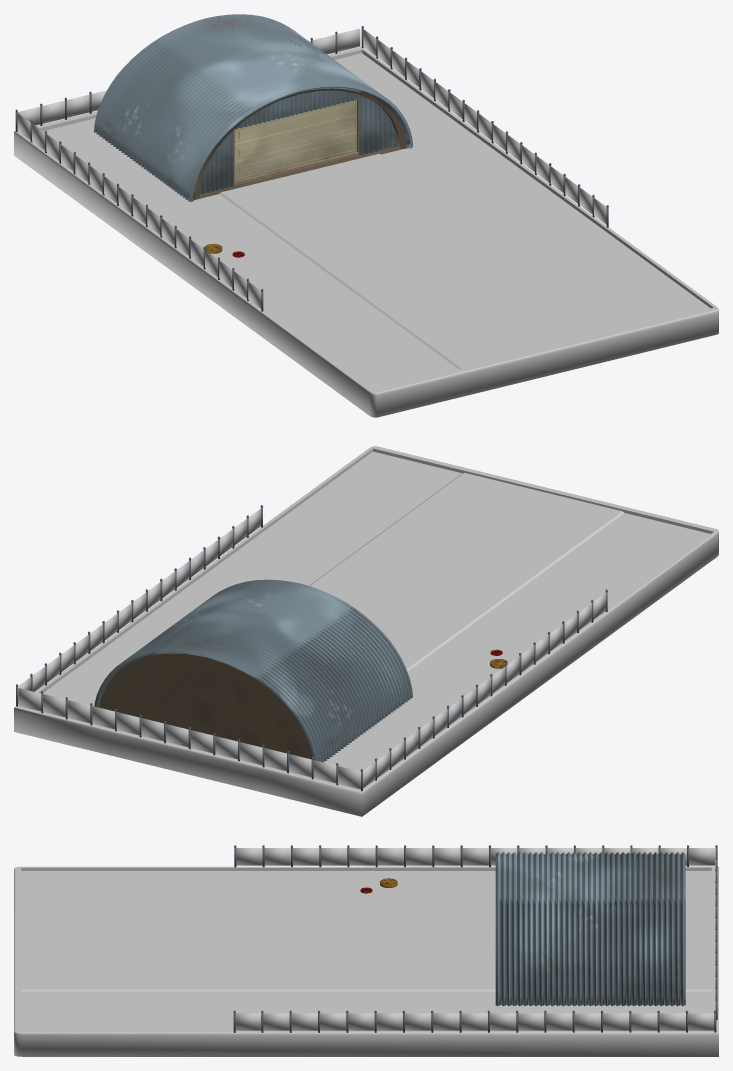
The model's file is runway1.fbx.
3 views of the same model, one above another, from view 1: azimuth 30°, elevation 25°; view 2: azimuth 150°, elevation 25°; view 3: azimuth 270°, elevation 25° (orthographic).
Visible parts, largest first — view 1: runway1, hangar1, hangar1.door; view 2: runway1, hangar1; view 3: runway1, hangar1.
Boxes of the visible parts, x1,y1,x2,y2 form: runway1: [14, 26, 718, 417]; hangar1: [94, 14, 412, 201]; hangar1.door: [235, 99, 356, 180]; runway1: [14, 446, 718, 816]; hangar1: [94, 579, 412, 762]; runway1: [14, 845, 718, 1056]; hangar1: [495, 852, 685, 1006].
Bounding box in the file's own units: 6499 × 1935 × 11615.
